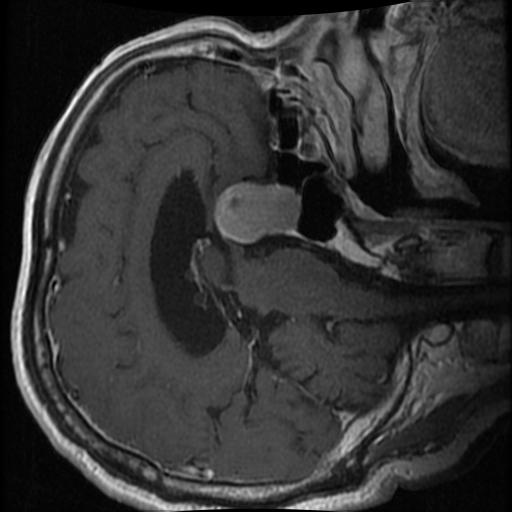pituitary tumour: (214, 181, 302, 244)
